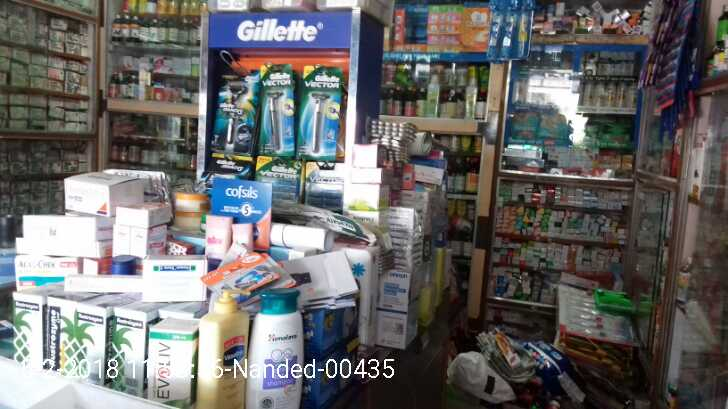oralcare: (488, 1, 532, 60)
